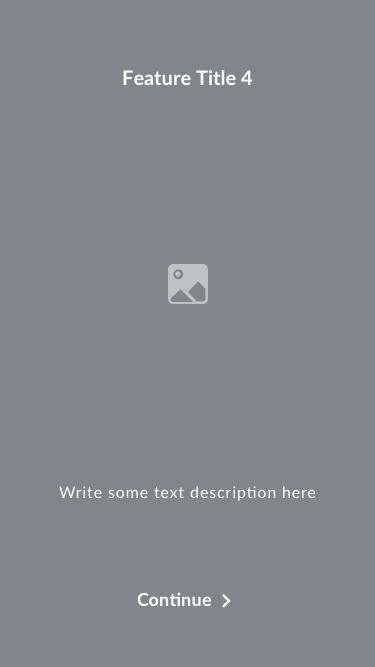Icon: (221, 592, 231, 608)
Image: (167, 263, 209, 305)
Text: (58, 485, 317, 503), (122, 69, 254, 88), (137, 591, 212, 607)
